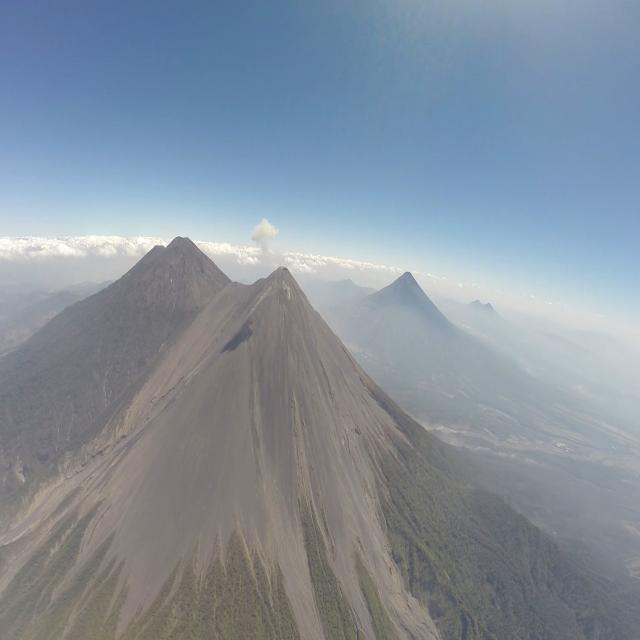Plume: (252, 217, 280, 243)
Summit: (251, 264, 308, 300)
